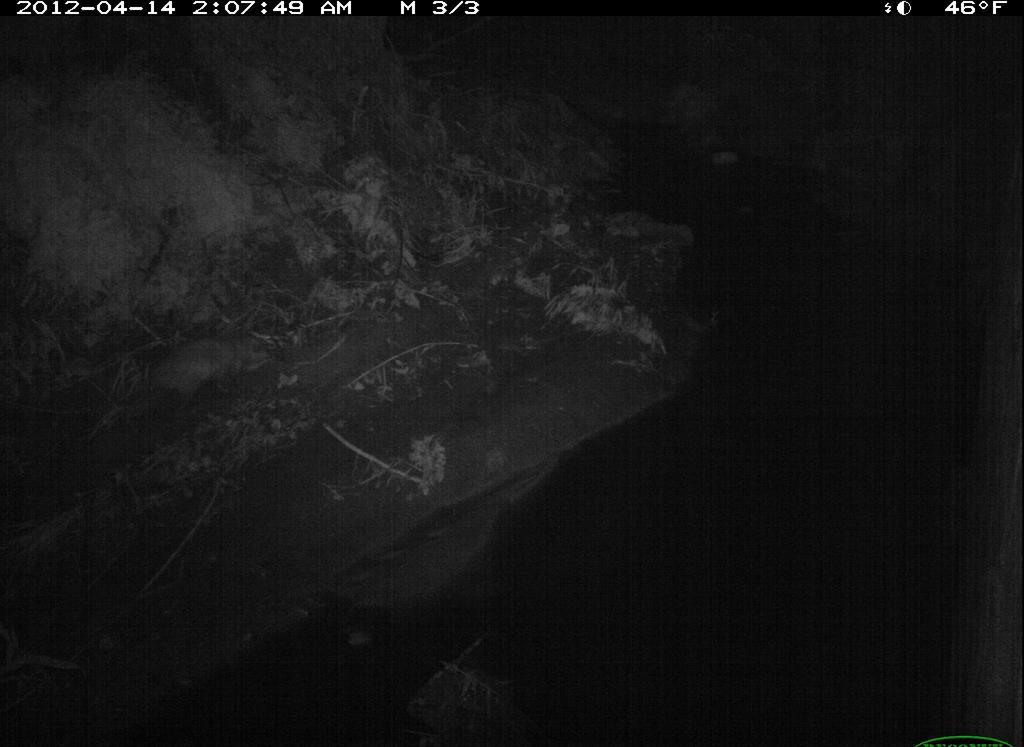opossum: (103, 323, 289, 423)
